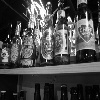beer: (75, 1, 96, 62)
